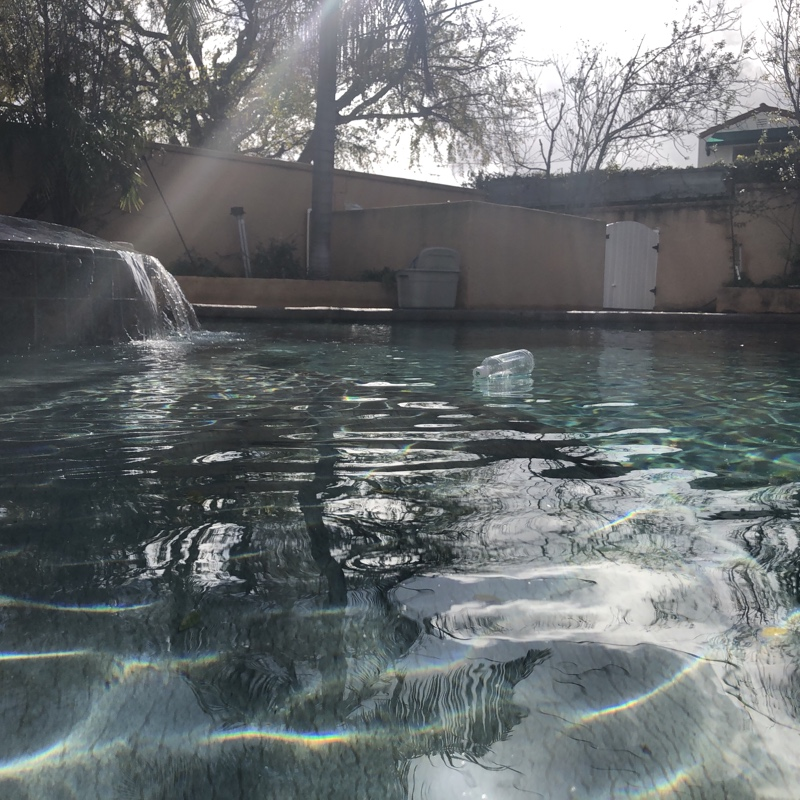Plastic Bottle: (471, 345, 540, 387)
